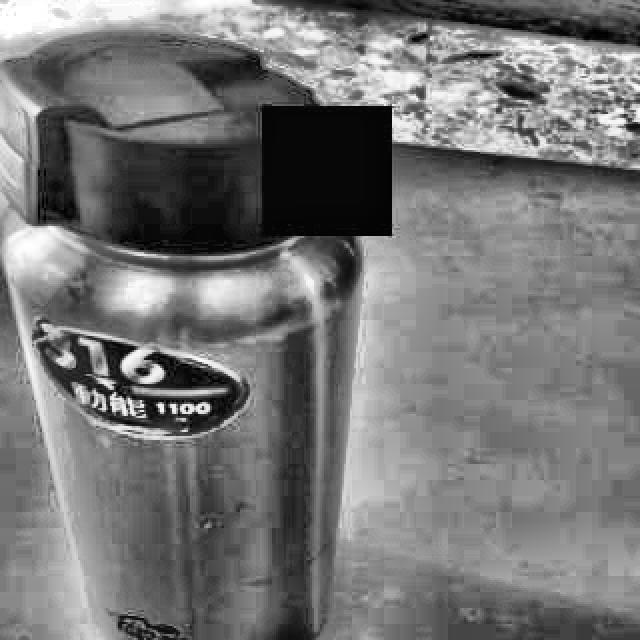bottle: (0, 38, 382, 640)
